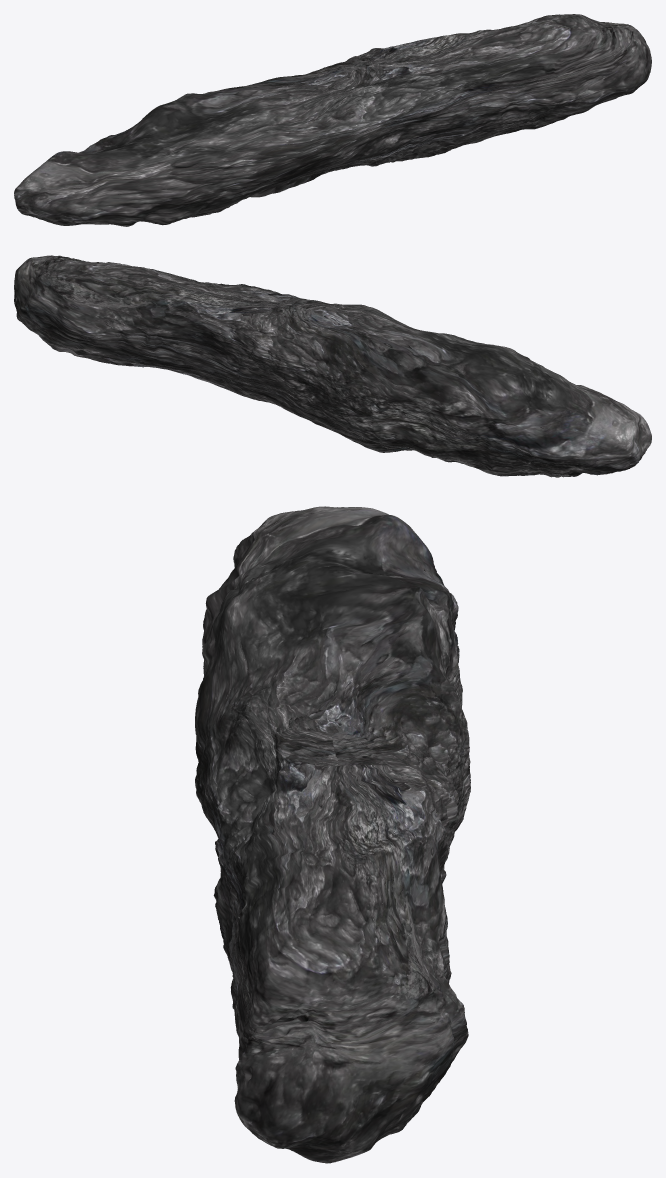
The model's file is oumuamua.glb.
The picture shows the model from 3 angles, top to bottom: view 1: azimuth 30°, elevation 25°; view 2: azimuth 150°, elevation 25°; view 3: azimuth 270°, elevation 25°; orthographic projection. The views are drawn at different scales.
Parts seen in each view (by area): view 1: Asteroid.1; view 2: Asteroid.1; view 3: Asteroid.1.
Boxes of the visible parts, box(x1,y1,x2,y2) form: Asteroid.1: box(14, 14, 651, 226); Asteroid.1: box(14, 255, 651, 477); Asteroid.1: box(195, 506, 470, 1163).
Size of the model in its own units: 333 by 57.3 by 64.35.
1 material, 1 textured.
